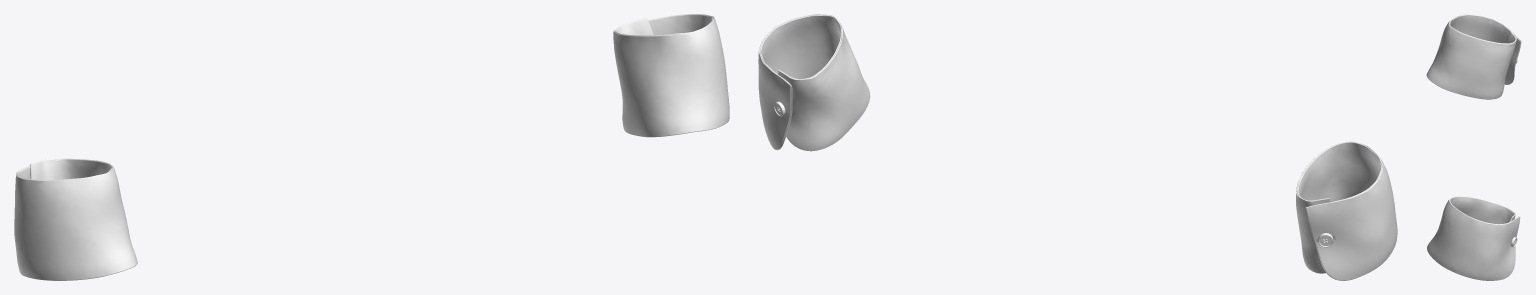
The model's file is 1_Button_Rounded.glb.
3 renders of one model, left to right at view 1: azimuth 30°, elevation 25°; view 2: azimuth 150°, elevation 25°; view 3: azimuth 270°, elevation 25°, orthographic. The views are drawn at different scales.
Visible parts, largest first — view 1: Pattern_2052443_Node, Pattern_2052444_Node, inner_Node, inner_Node.001; view 2: Pattern_2052444_Node, Pattern_2052443_Node, inner_Node.001, inner_Node; view 3: Pattern_2052444_Node, Pattern_2052443_Node, inner_Node, inner_Node.001.
Part boxes in pixels (box(x1,y1,x2,y2)): Pattern_2052443_Node: box(14, 158, 137, 280); Pattern_2052444_Node: box(613, 14, 729, 137); inner_Node: box(17, 159, 112, 278); inner_Node.001: box(614, 14, 713, 35); Pattern_2052444_Node: box(758, 14, 870, 151); Pattern_2052443_Node: box(1296, 141, 1397, 280); inner_Node.001: box(760, 15, 841, 150); inner_Node: box(1297, 141, 1382, 279); Pattern_2052444_Node: box(1427, 196, 1520, 280); Pattern_2052443_Node: box(1426, 14, 1521, 99); inner_Node: box(1449, 14, 1521, 84); inner_Node.001: box(1449, 196, 1518, 224).
Size of the model in its own units: 60.26 by 10.01 by 11.69.
10 materials, 2 textured.
